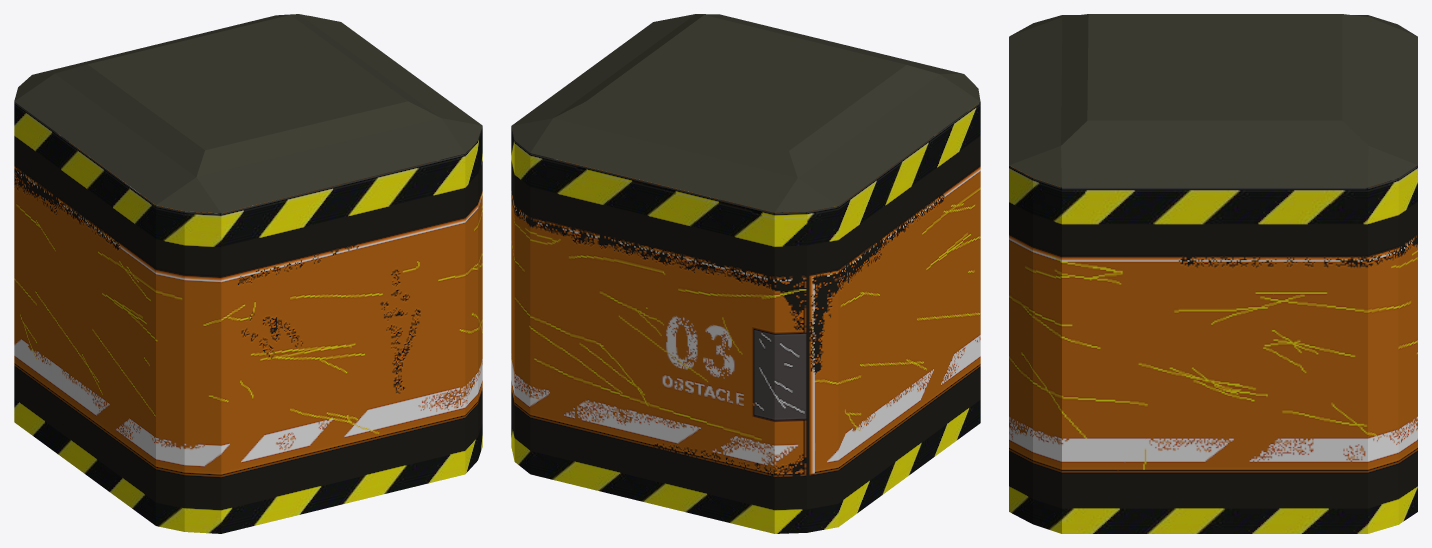
The model's file is cuadrado_bajo.fbx.
3 renders of one model, left to right at view 1: azimuth 30°, elevation 25°; view 2: azimuth 150°, elevation 25°; view 3: azimuth 270°, elevation 25°, orthographic. The views are drawn at different scales.
Parts seen in each view (by area): view 1: Cube; view 2: Cube; view 3: Cube.
Boxes of the visible parts, box(x1,y1,x2,y2) form: Cube: box(14, 14, 482, 533); Cube: box(511, 14, 980, 533); Cube: box(1009, 14, 1417, 533).
Bounding box in the file's own units: 2.13 × 2.27 × 2.14.
Materials: 1 (1 with a texture image).
